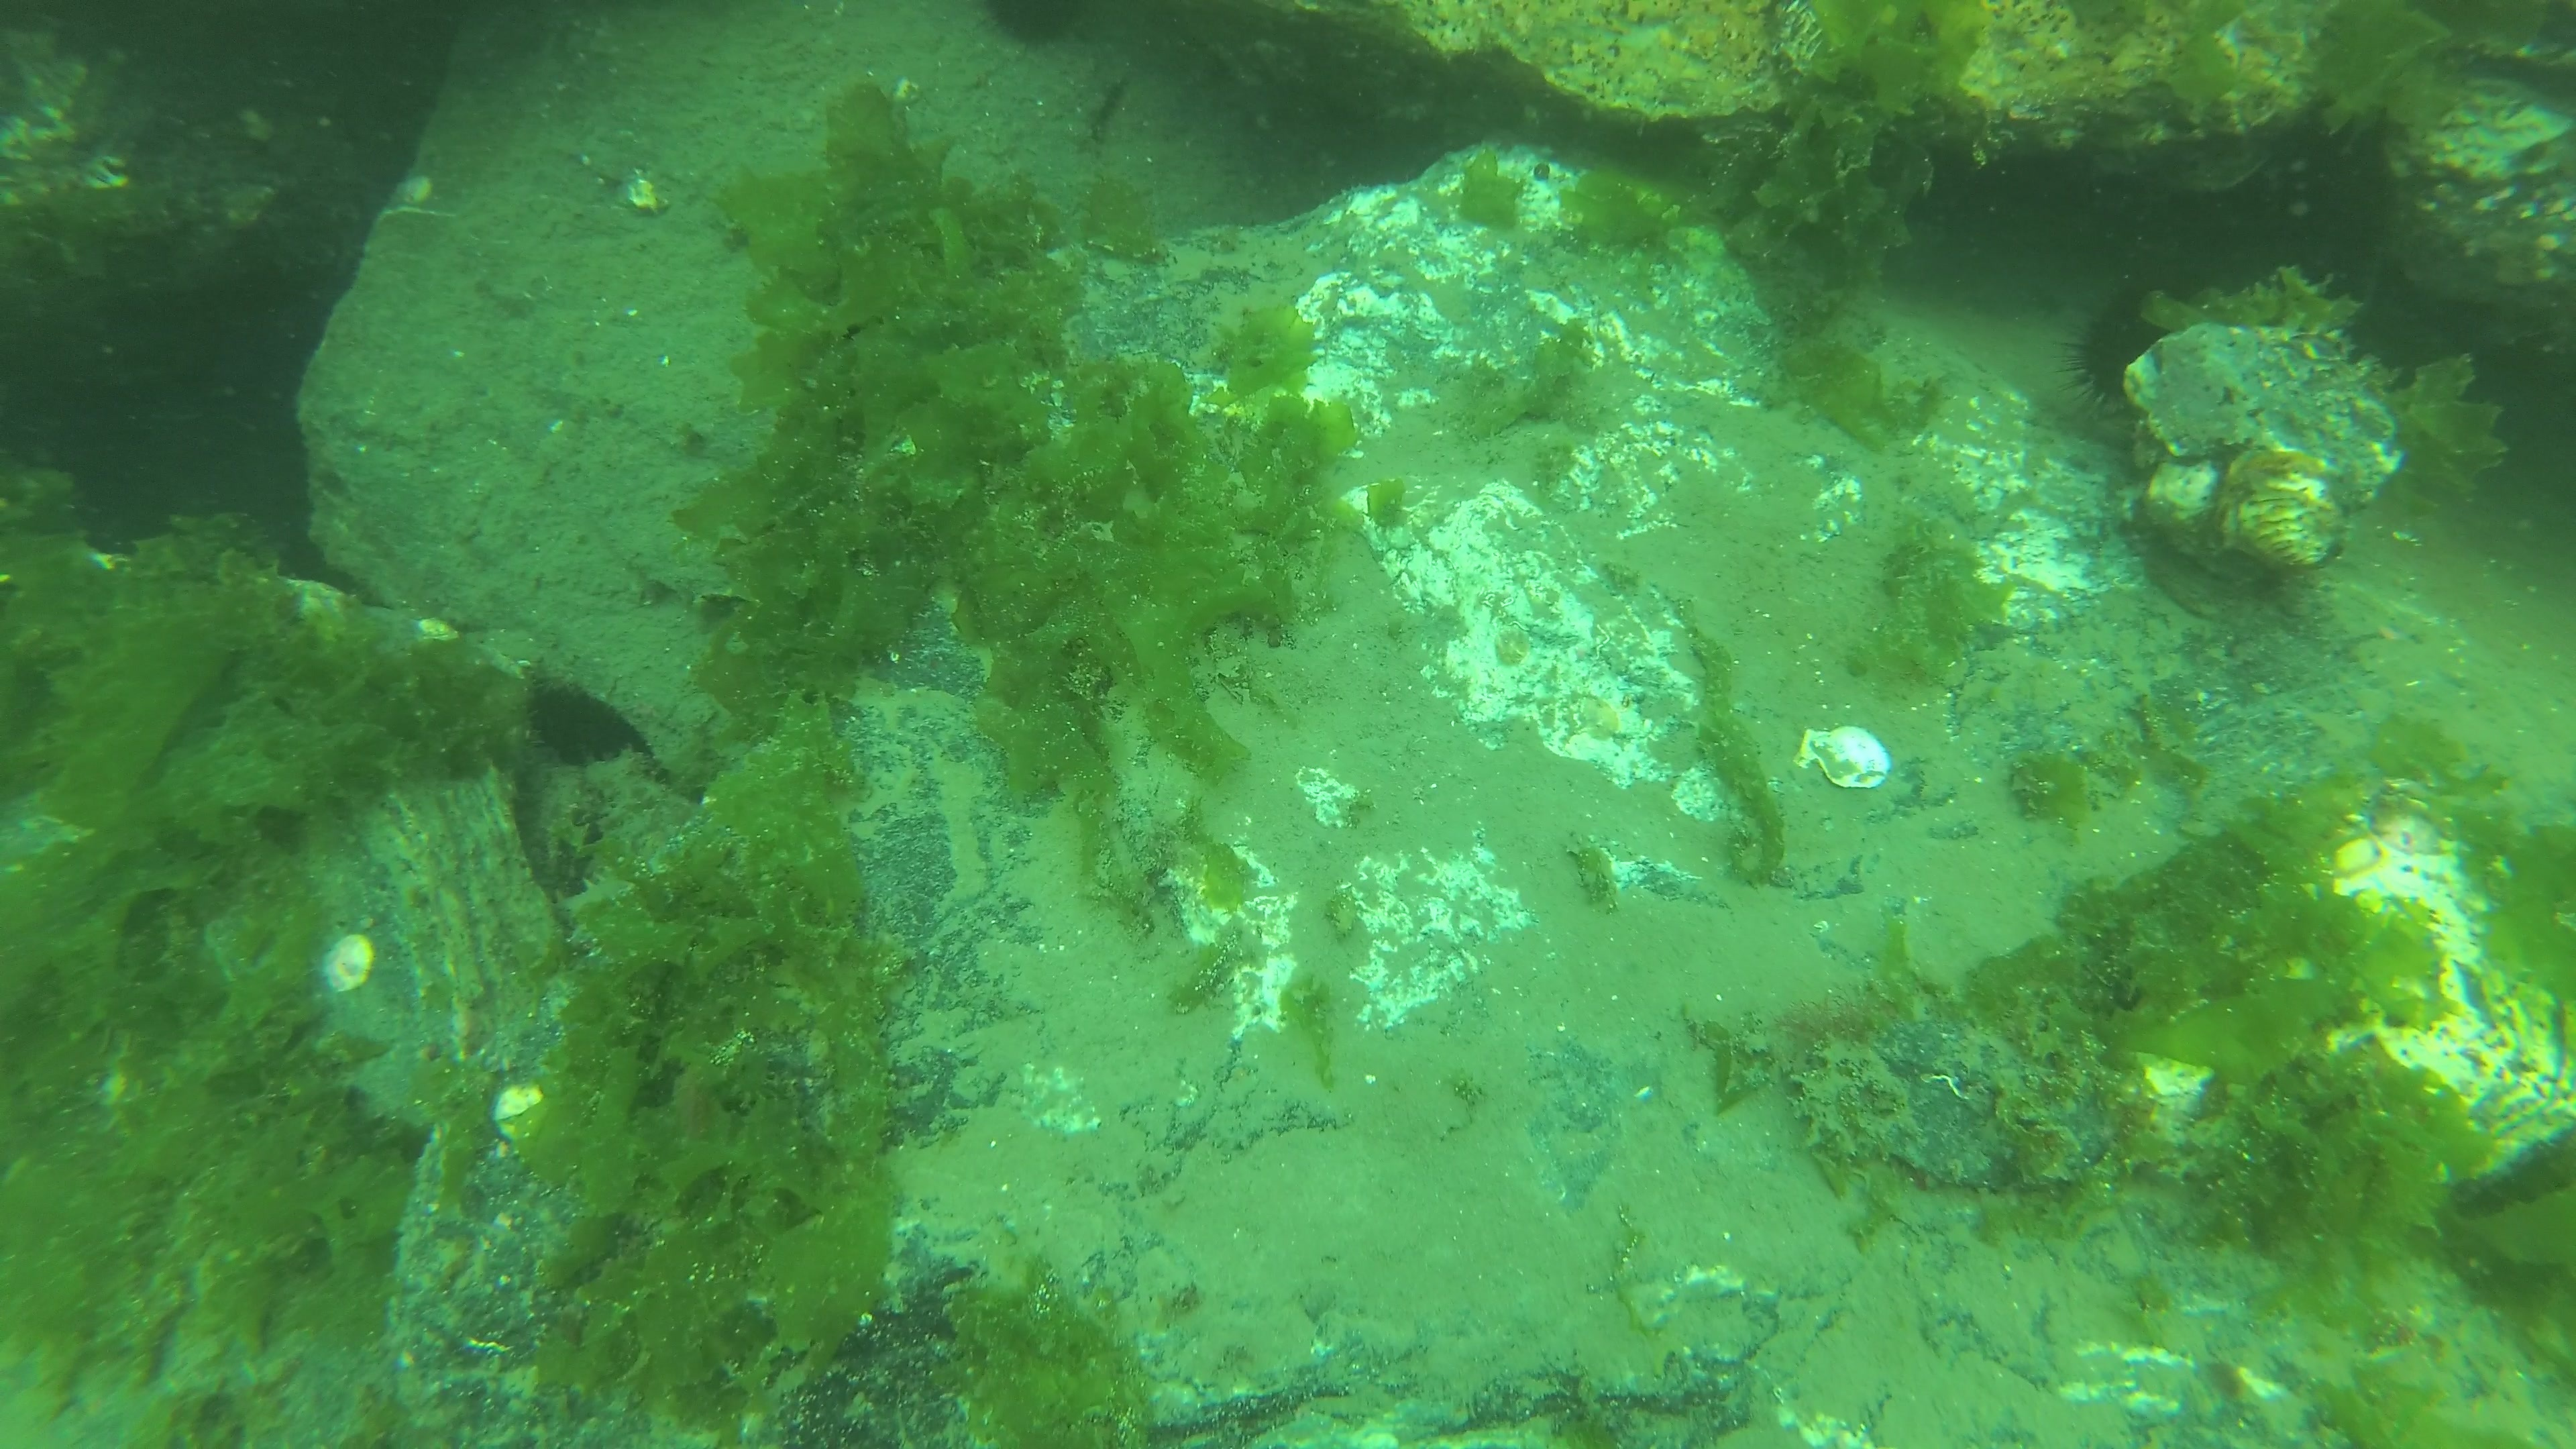echinus: (2077, 283, 2176, 412), (980, 2, 1095, 51)
scallop: (1799, 722, 1897, 791)
